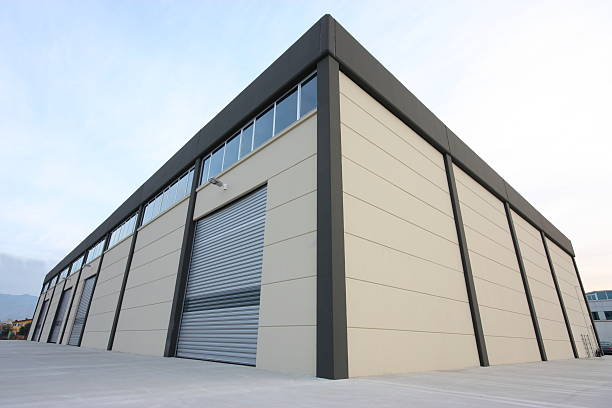Building House: (41, 42, 597, 368)
